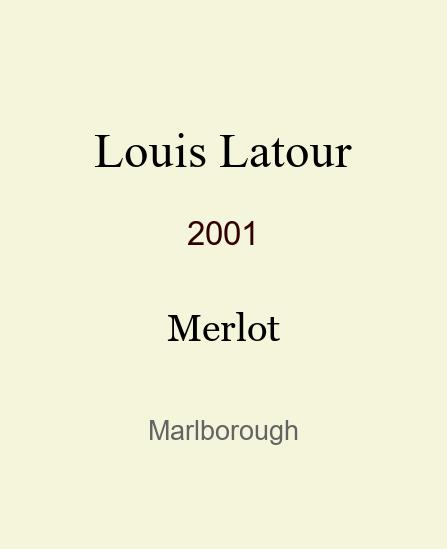brand: (94, 123, 352, 157)
region: (148, 415, 299, 440)
variety: (167, 306, 280, 335)
vintage: (187, 215, 259, 239)
